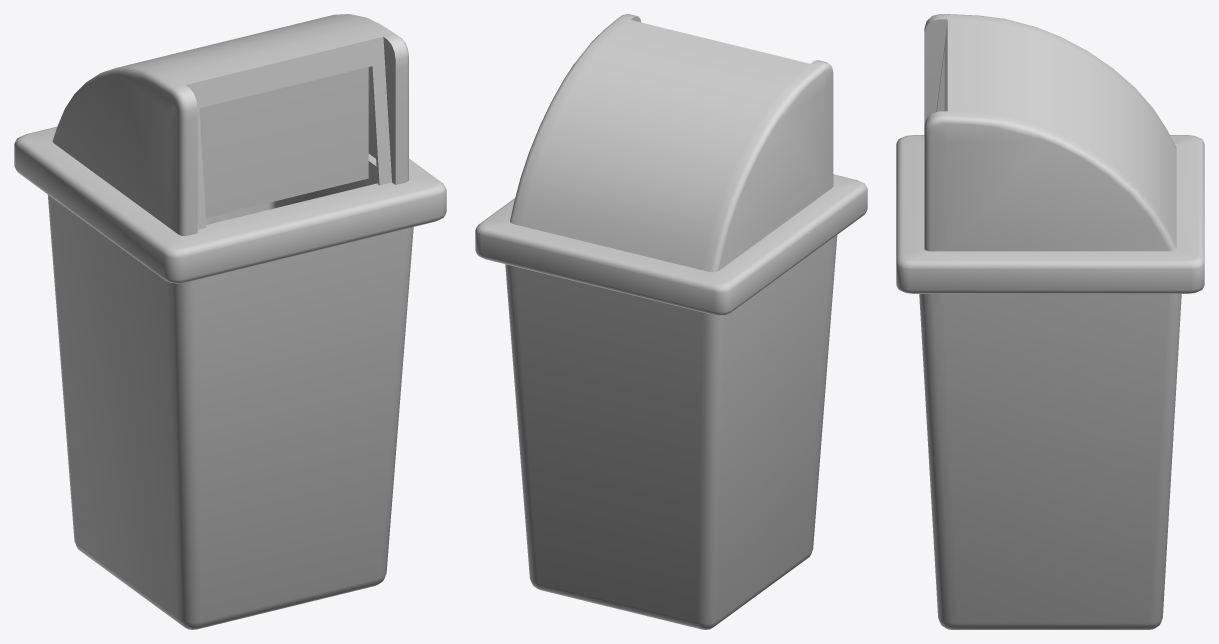
File: trash_bin_c.glb
3 renders of one model, left to right at view 1: azimuth 30°, elevation 25°; view 2: azimuth 150°, elevation 25°; view 3: azimuth 270°, elevation 25°, orthographic. The views are drawn at different scales.
Visible parts, largest first — view 1: trash_bin_c; view 2: trash_bin_c; view 3: trash_bin_c.
Part boxes in pixels (x1,y1,x2,y2): trash_bin_c: (14,14,446,629); trash_bin_c: (475,14,867,629); trash_bin_c: (896,14,1204,629).
Bounding box in the file's own units: 0.4111 × 0.7667 × 0.4111.
Materials: 1 (1 with a texture image).
